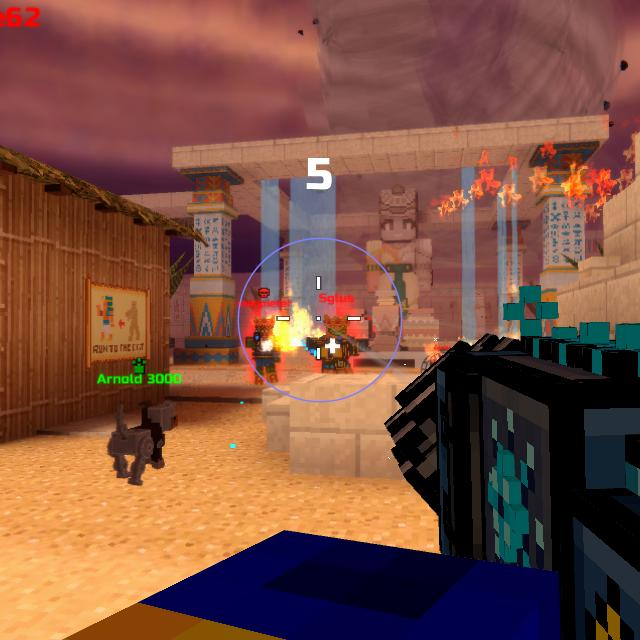Enemy: (308, 317, 362, 374), (243, 317, 280, 386)
